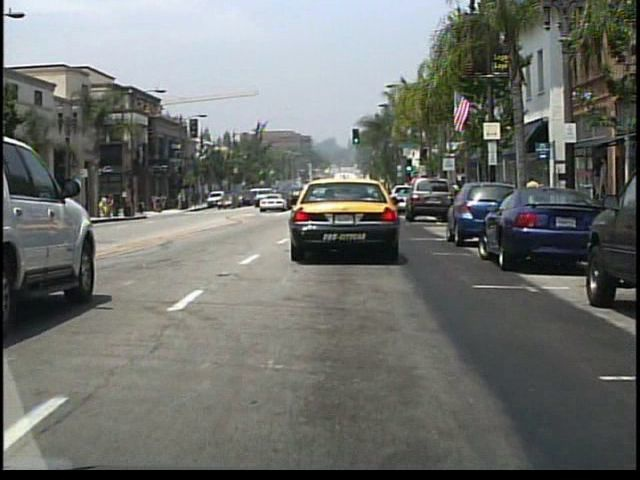person: (524, 174, 542, 216), (137, 190, 147, 213), (229, 187, 239, 210)
